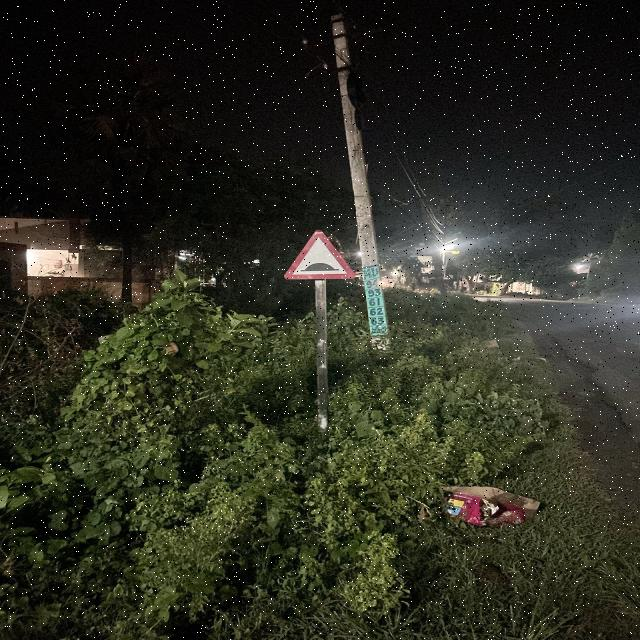Bump: (281, 232, 351, 283)
